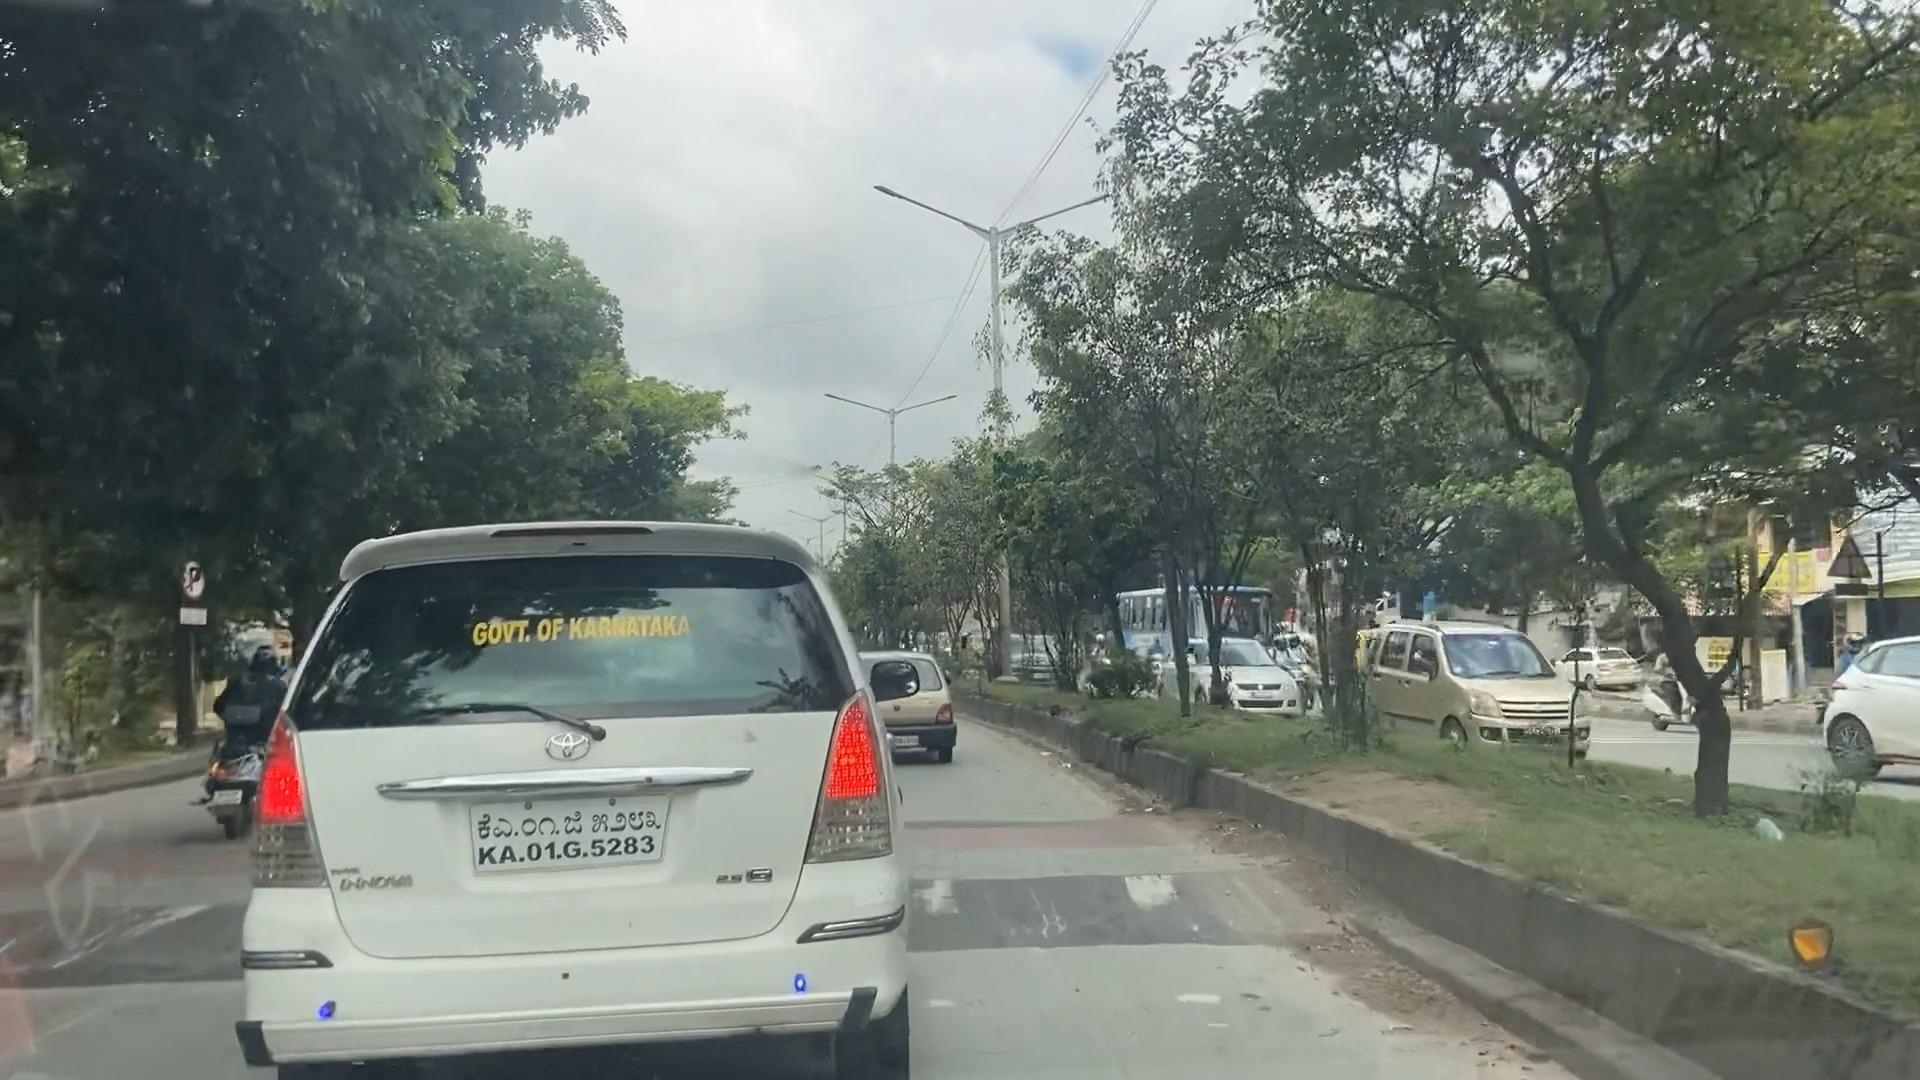LMV: (223, 452, 924, 1080)
